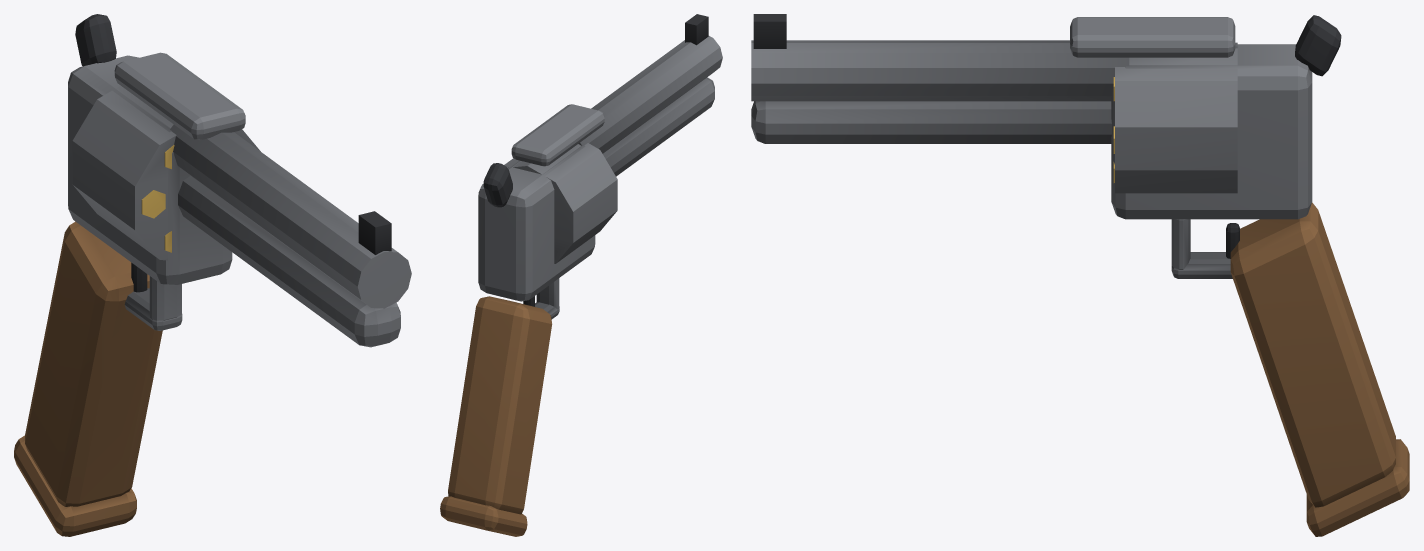
The model's file is bulldog_r6.glb.
3 renders of one model, left to right at view 1: azimuth 30°, elevation 25°; view 2: azimuth 150°, elevation 25°; view 3: azimuth 270°, elevation 25°, orthographic. The views are drawn at different scales.
Parts seen in each view (by area): view 1: bulldog_r6, mag; view 2: bulldog_r6, mag; view 3: bulldog_r6, mag.
Boxes of the visible parts, x1,y1,x2,y2 form: bulldog_r6: [14, 14, 411, 536]; mag: [72, 85, 260, 260]; bulldog_r6: [440, 14, 722, 536]; mag: [504, 143, 617, 263]; bulldog_r6: [751, 14, 1409, 536]; mag: [1113, 42, 1237, 193].
Bounding box in the file's own units: 0.0618 × 0.236 × 0.2788.
